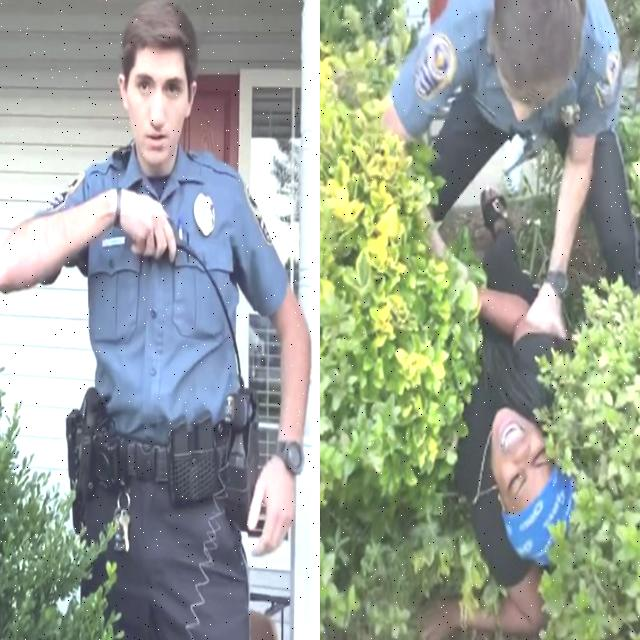police: (0, 0, 315, 640), (358, 0, 640, 320)
